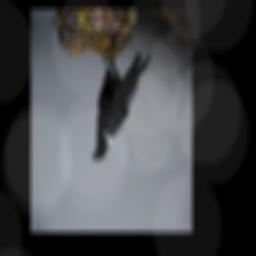Crow: (89, 46, 155, 167)
